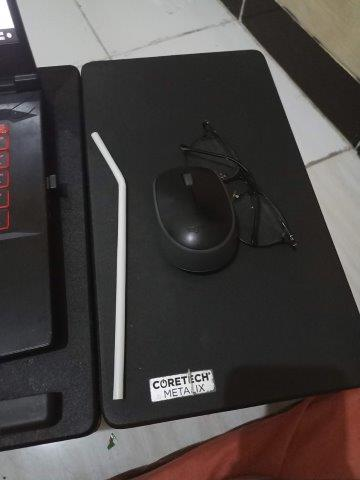sedotan: (91, 131, 126, 400)
